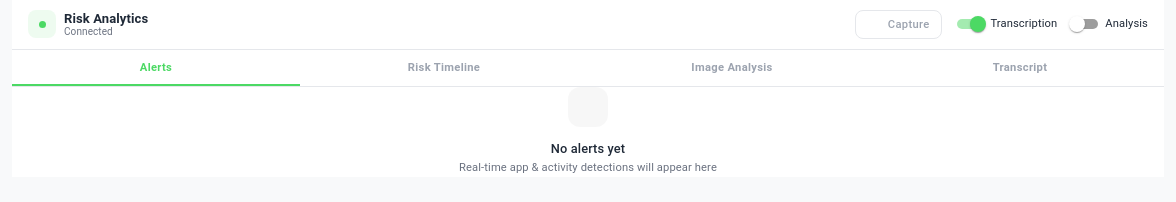
Scenario: AnalyticsPanel › Transcript tab empty hint depends on transcriptionOn
Click the tab "Transcript" at (1020, 68), box [876, 50, 1164, 86]
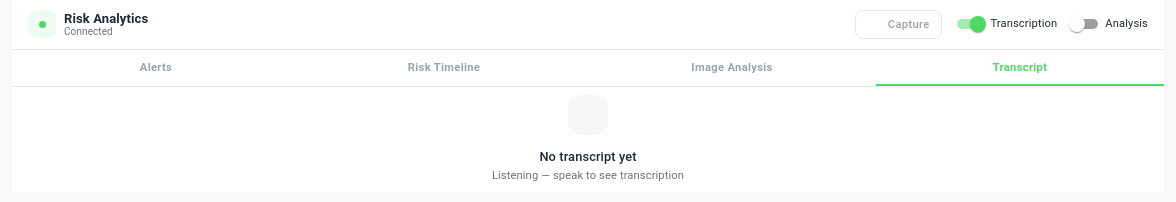
Check: the text "Listening — speak to see transcription" is shown, box [492, 168, 684, 185]
